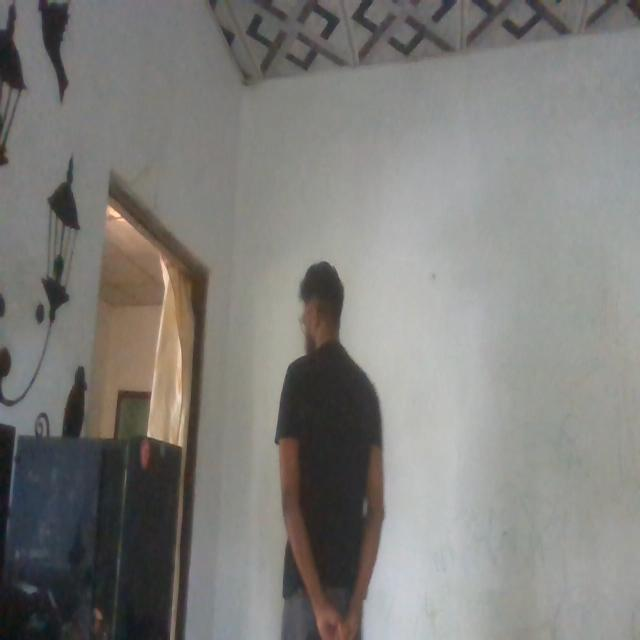Person: (269, 258, 391, 624)
